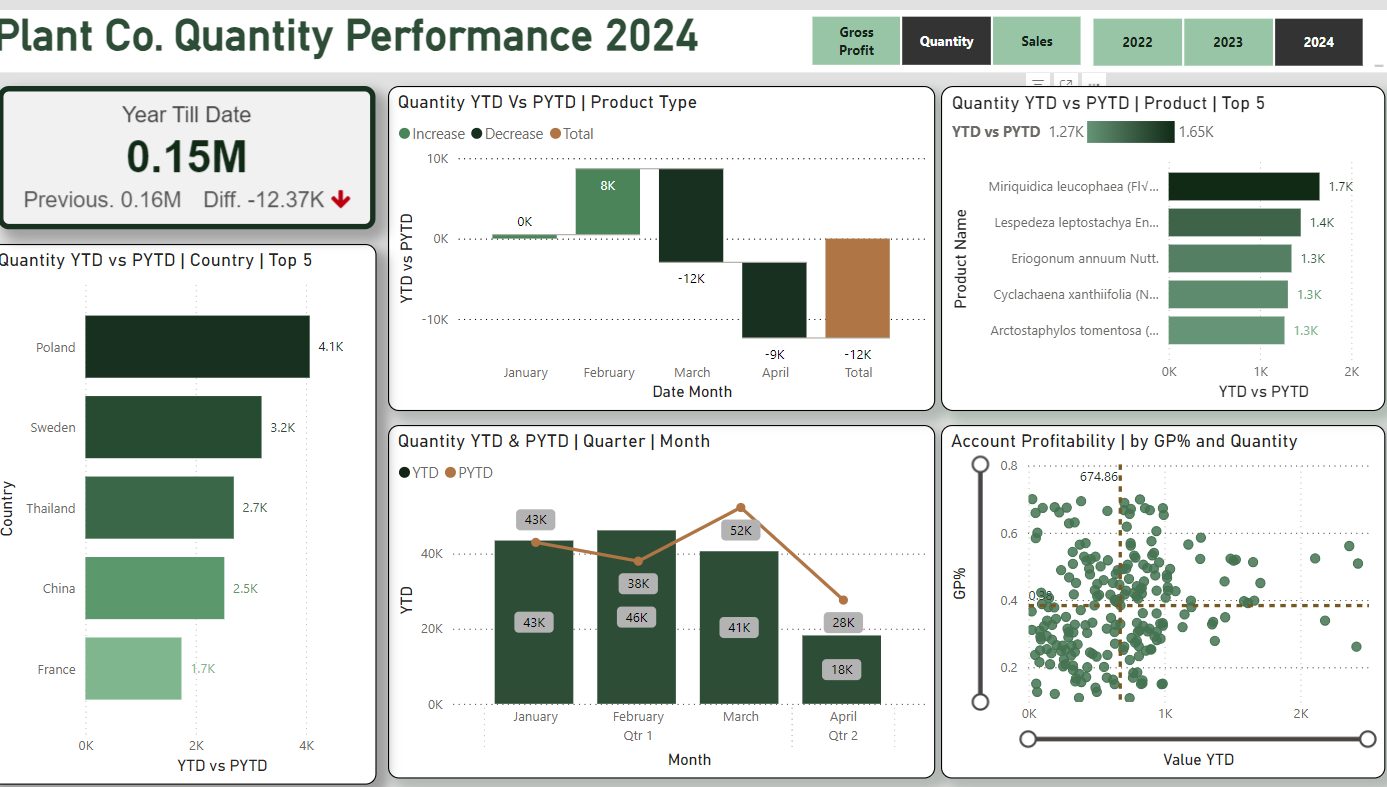

What the dashboard file says about the page in this screenshot:
{"tool":"powerbi","page":{"name":"Performance Report","canvas":[1280,720],"ordinal":0},"visuals":[{"type":"textbox","box":[0,9.6,1279.8,56.7],"z":1000},{"type":"slicer","title":"Year","fields":{"Values":["Dim_Date.Date.Variation.Date Hierarchy.Year"]},"box":[983.7,11.3,296.3,56.6],"z":2000},{"type":"slicer","title":"Year","fields":{"Values":["Slc_Values.Values"]},"box":[727.5,9.3,295.3,57.6],"z":3000},{"type":"lineClusteredColumnComboChart","fields":{"Category":["Dim_Date.Date.Variation.Date Hierarchy.Quarter","Dim_Date.Date.Variation.Date Hierarchy.Month"],"Y":["_Measures.S_YTD"],"Y2":["_Measures.S_PYTD"]},"box":[365.3,388.9,500.1,323.1],"z":4000},{"type":"waterfallChart","fields":{"Category":["Dim_Date.Date.Variation.Date Hierarchy.Month","Dim_Product.Produt_Type"],"Y":["_Measures.YTD vs PYTD"]},"box":[365.6,79.7,500,296.9],"z":5000},{"type":"scatterChart","fields":{"Category":["Dim_Accounts.Account"],"X":["_Measures.S_YTD"],"Y":["_Measures.GP%"]},"box":[870.5,388.9,406.4,323.1],"z":6000},{"type":"barChart","fields":{"Category":["Dim_Accounts.country"],"Y":["_Measures.YTD vs PYTD"]},"box":[0,223.4,354.7,493.8],"z":7000},{"type":"BBED0A4D4D8D44CE93CF2DAFADEE466C","fields":{"actual":["_Measures.S_YTD"],"target1":["_Measures.S_PYTD"],"target2":["_Measures.YTD vs PYTD"]},"box":[9.4,79.7,345.3,131.2],"z":8000},{"type":"barChart","fields":{"Y":["_Measures.YTD vs PYTD"],"Category":["Dim_Product.Product_Name"]},"box":[870.5,79.2,406.4,297.4],"z":9000}]}

Visuals, with their boxes in screenshot pixels (x1, y1, x2, y2), scaled from the page's 1280x720 canvas onto the 1387x787 screenshot:
textbox: (x1=0, y1=10, x2=1386, y2=72)
"Year" slicer: (x1=1066, y1=12, x2=1386, y2=74)
"Year" slicer: (x1=788, y1=10, x2=1108, y2=73)
lineClusteredColumnComboChart - Dim_Date.Date.Variation.Date Hierarchy.Quarter x Dim_Date.Date.Variation.Date Hierarchy.Month: (x1=396, y1=425, x2=938, y2=778)
waterfallChart - Dim_Date.Date.Variation.Date Hierarchy.Month x Dim_Product.Produt_Type: (x1=396, y1=87, x2=938, y2=412)
scatterChart - Dim_Accounts.Account x _Measures.S_YTD: (x1=943, y1=425, x2=1384, y2=778)
barChart - Dim_Accounts.country x _Measures.YTD vs PYTD: (x1=0, y1=244, x2=384, y2=784)
BBED0A4D4D8D44CE93CF2DAFADEE466C - _Measures.S_YTD x _Measures.S_PYTD: (x1=10, y1=87, x2=384, y2=231)
barChart - _Measures.YTD vs PYTD x Dim_Product.Product_Name: (x1=943, y1=87, x2=1384, y2=412)
